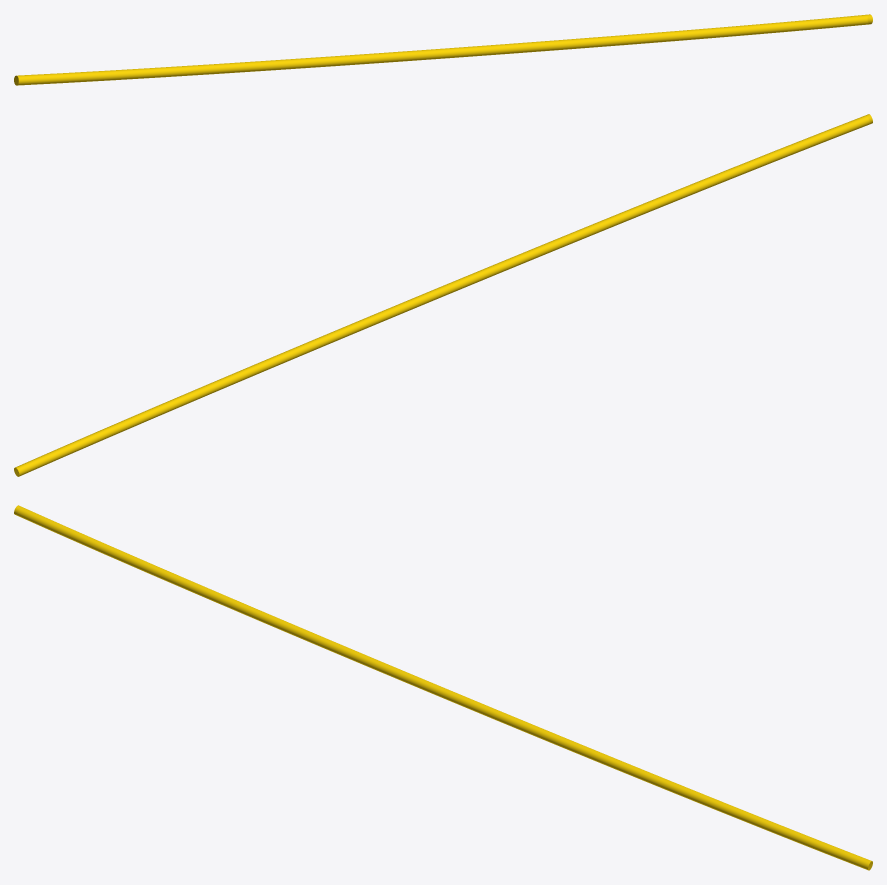
File: Event_421115418_track_67.fbx
The picture shows the model from 3 angles, top to bottom: view 1: azimuth 30°, elevation 25°; view 2: azimuth 210°, elevation 25°; view 3: azimuth 330°, elevation 25°; orthographic projection.
Parts seen in each view (by area): view 1: Model; view 2: Model; view 3: Model.
Boxes of the visible parts, x1,y1,x2,y2 form: Model: [14, 14, 872, 85]; Model: [14, 114, 872, 476]; Model: [14, 505, 872, 870].
Bounding box in the file's own units: 3.93 × 0.6818 × 0.0775.
